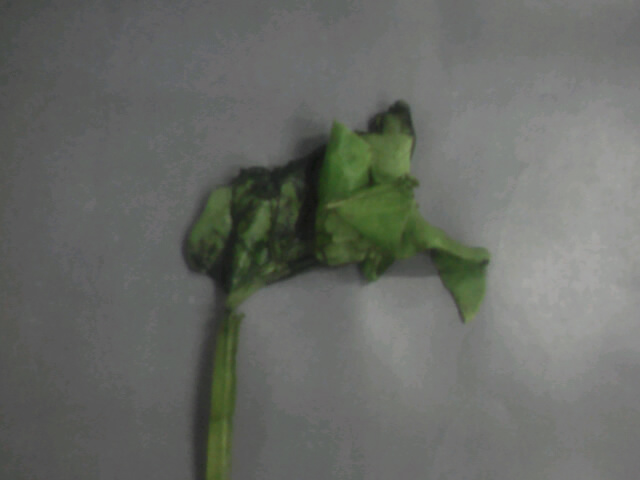yellow: (176, 94, 504, 397)
